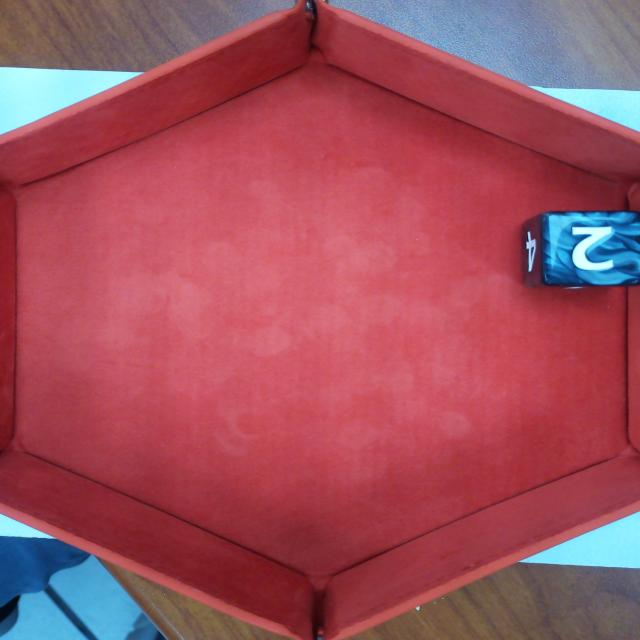dice: (542, 209, 640, 288)
